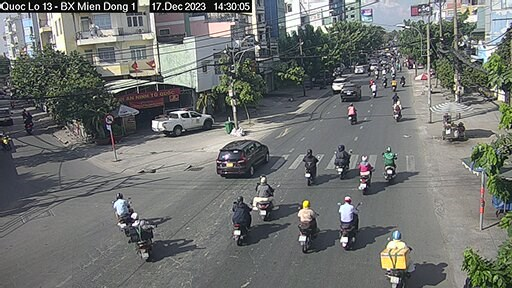car: (215, 137, 269, 177), (152, 109, 217, 135), (339, 80, 364, 100), (332, 76, 350, 95), (353, 63, 366, 75)
motorbike: (292, 206, 321, 253), (333, 198, 359, 246), (227, 198, 253, 241), (126, 219, 153, 260), (255, 182, 280, 220), (356, 154, 377, 196), (112, 196, 135, 234), (382, 143, 401, 185), (336, 145, 351, 178), (304, 151, 318, 182), (347, 102, 359, 125), (392, 100, 405, 121)
